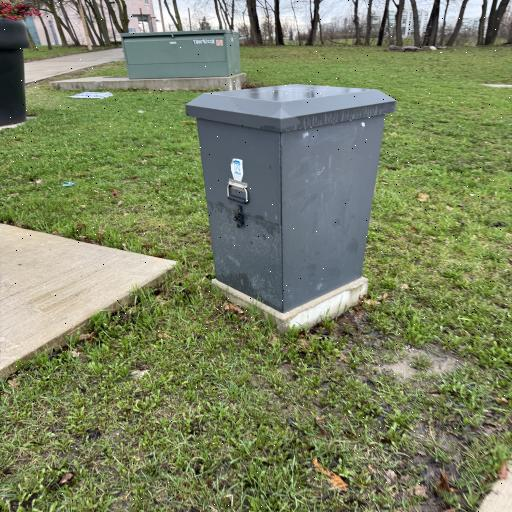Electrical Box: (179, 81, 399, 337), (115, 24, 246, 84)
